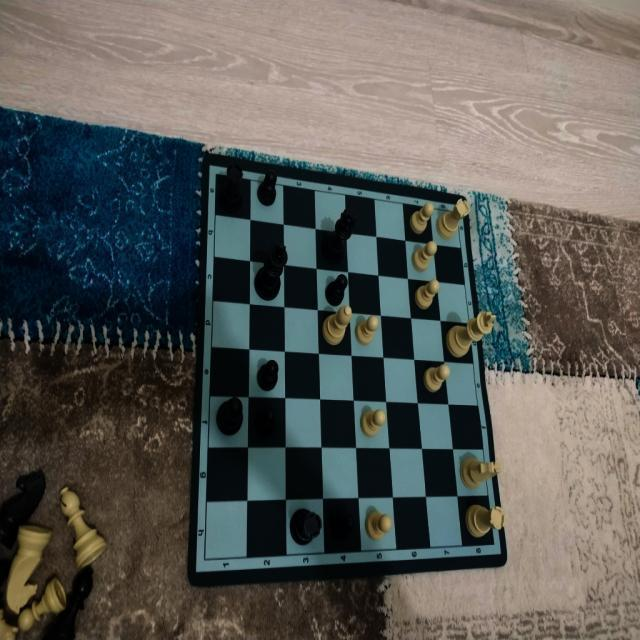chess-table-corners: (198, 552, 211, 568), (489, 536, 499, 552), (212, 168, 222, 182)
